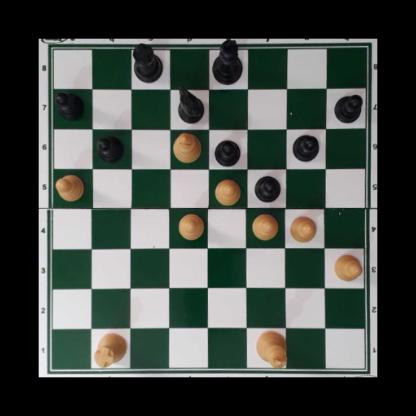black-king: (211, 39, 244, 87)
black-knight: (175, 87, 204, 123)
black-pawn: (333, 93, 364, 123), (55, 89, 84, 120), (213, 136, 241, 166), (292, 133, 320, 162), (95, 134, 124, 162), (254, 174, 280, 202)
black-rook: (131, 42, 165, 82)
white-bishop: (173, 131, 202, 165)
white-king: (255, 330, 288, 369)
white-pawn: (332, 252, 363, 282), (54, 173, 84, 201), (213, 178, 242, 206), (289, 214, 317, 243), (251, 211, 278, 241), (177, 214, 205, 240)
white-rook: (94, 332, 127, 367)
